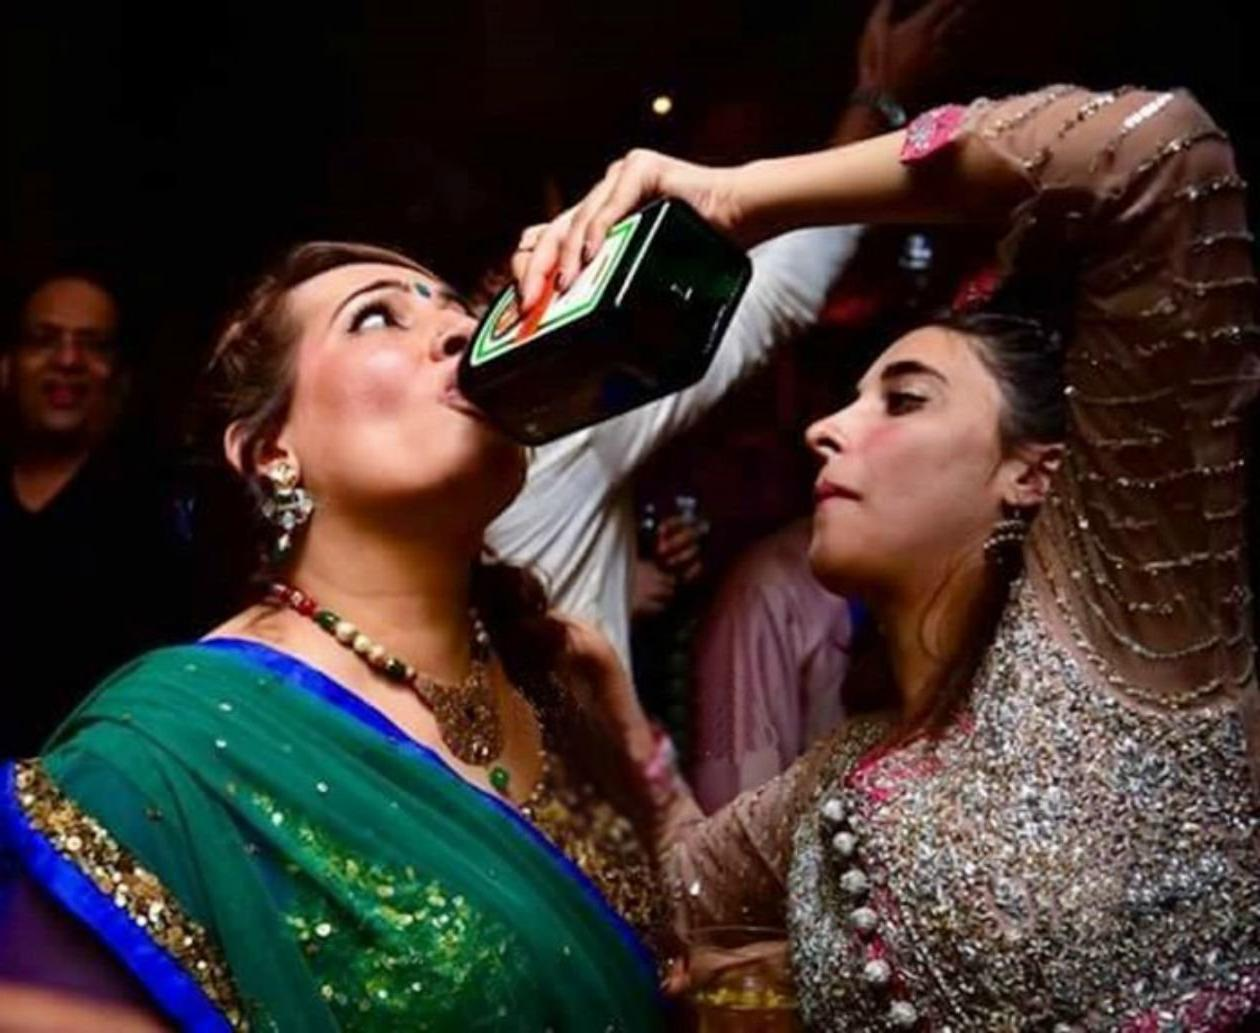Drunk: (801, 325, 995, 596), (301, 266, 513, 508)
